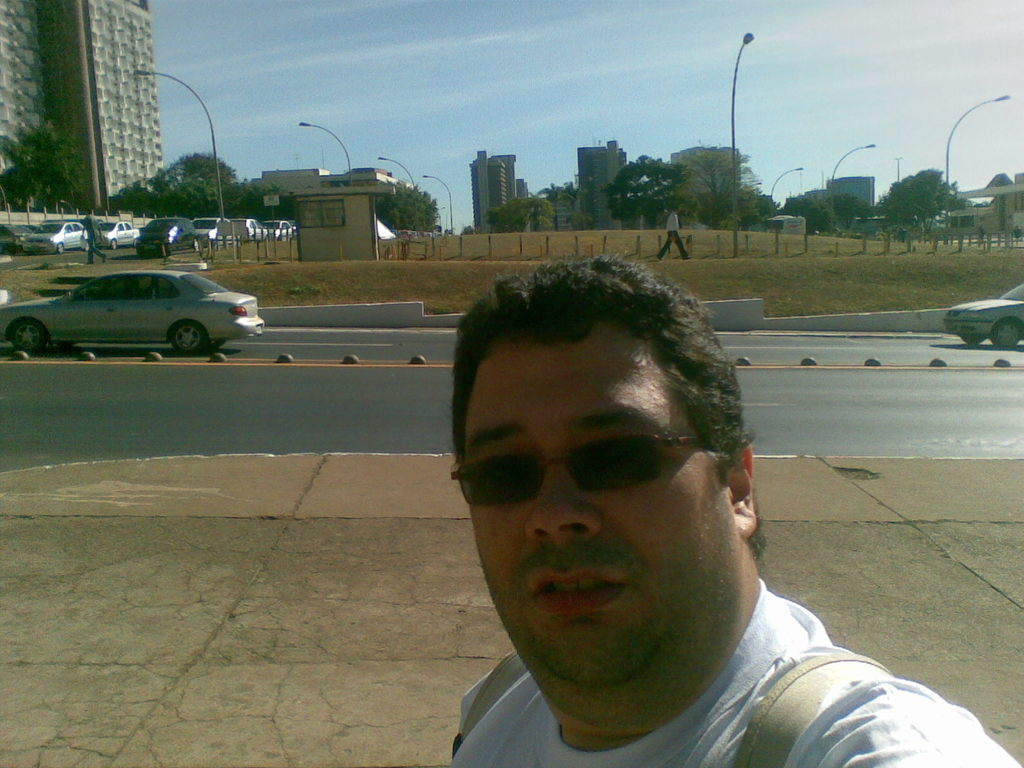cars: (3, 267, 264, 357), (0, 216, 300, 262), (943, 281, 1023, 351), (389, 229, 441, 237)
